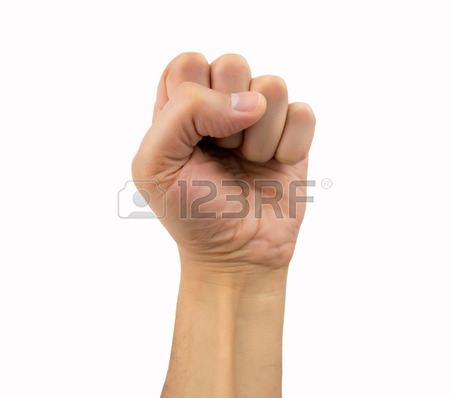fist: (130, 49, 319, 272)
